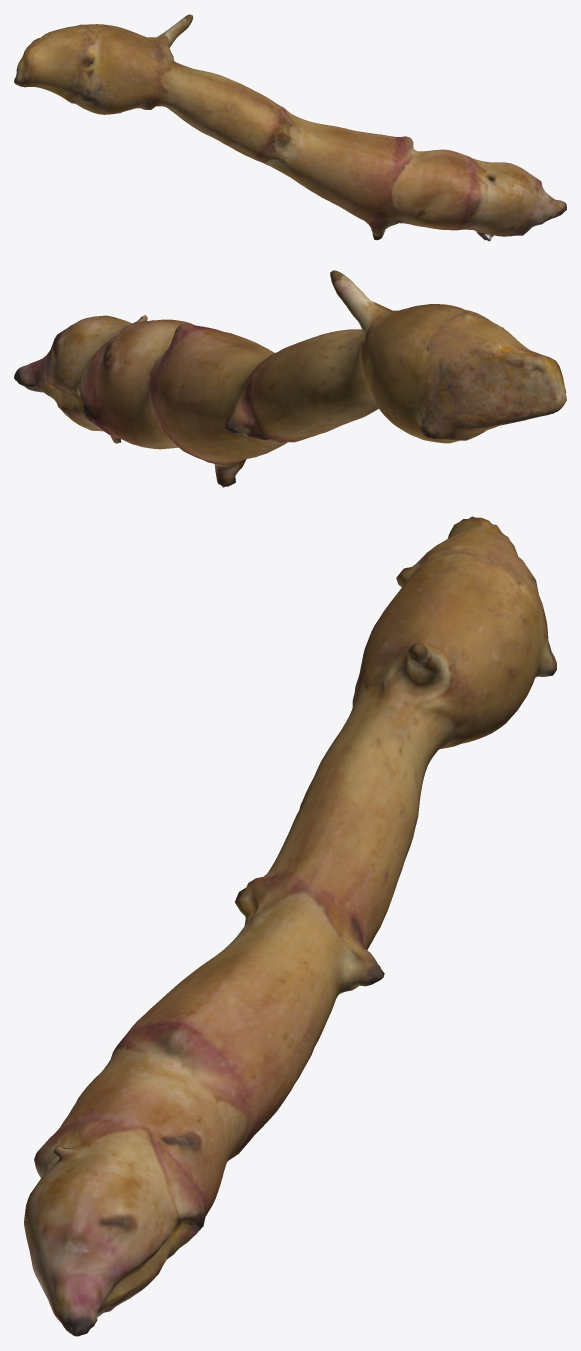
File: sunchoke_jerusalem_artichoke.glb
3 views of the same model, one above another, from view 1: azimuth 30°, elevation 25°; view 2: azimuth 150°, elevation 25°; view 3: azimuth 270°, elevation 25° (orthographic). The views are drawn at different scales.
Visible parts, largest first — view 1: Group37472_2; view 2: Group37472_2; view 3: Group37472_2.
Part boxes in pixels (bbox=[...]): Group37472_2: bbox=[14, 14, 566, 241]; Group37472_2: bbox=[14, 270, 566, 487]; Group37472_2: bbox=[24, 516, 556, 1336].
Size of the model in its own units: 1.05 by 0.4975 by 0.5346.
1 material, 1 textured.
